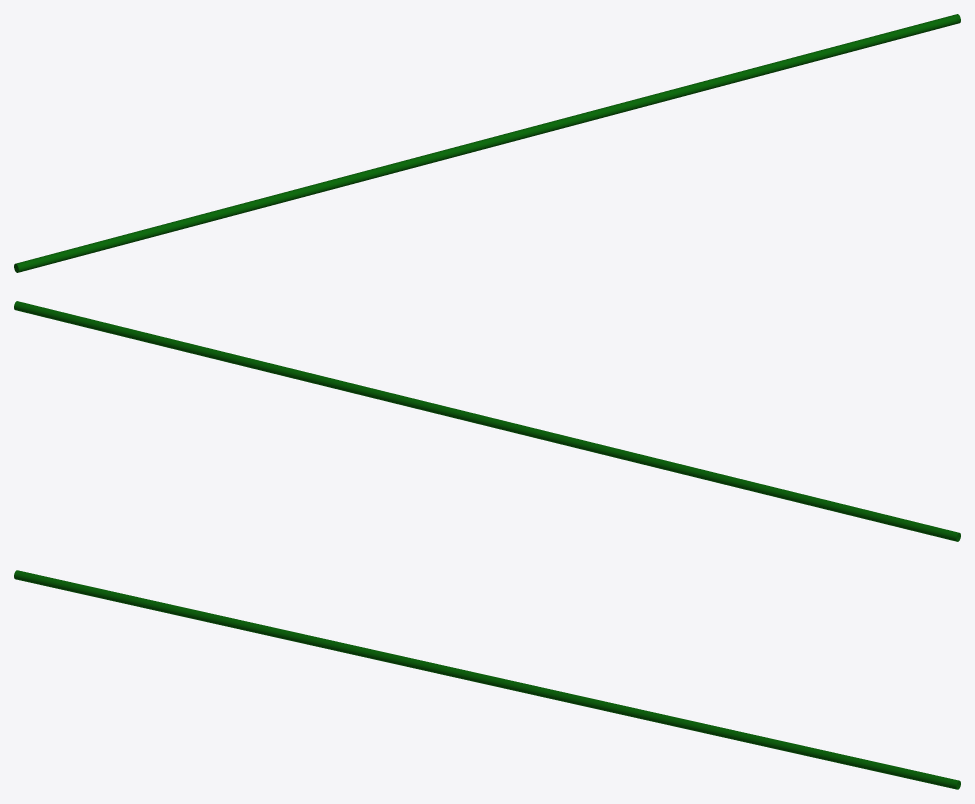
Rendered from Event_420107950_jet_1.fbx.
The picture shows the model from 3 angles, top to bottom: view 1: azimuth 30°, elevation 25°; view 2: azimuth 150°, elevation 25°; view 3: azimuth 330°, elevation 25°; orthographic projection.
Visible parts, largest first — view 1: Model; view 2: Model; view 3: Model.
Part boxes in pixels (x1,y1,x2,y2): Model: [14, 14, 960, 272]; Model: [14, 301, 960, 541]; Model: [14, 570, 960, 789].
Bounding box in the file's own units: 4.62 × 0.0904 × 0.1175.
